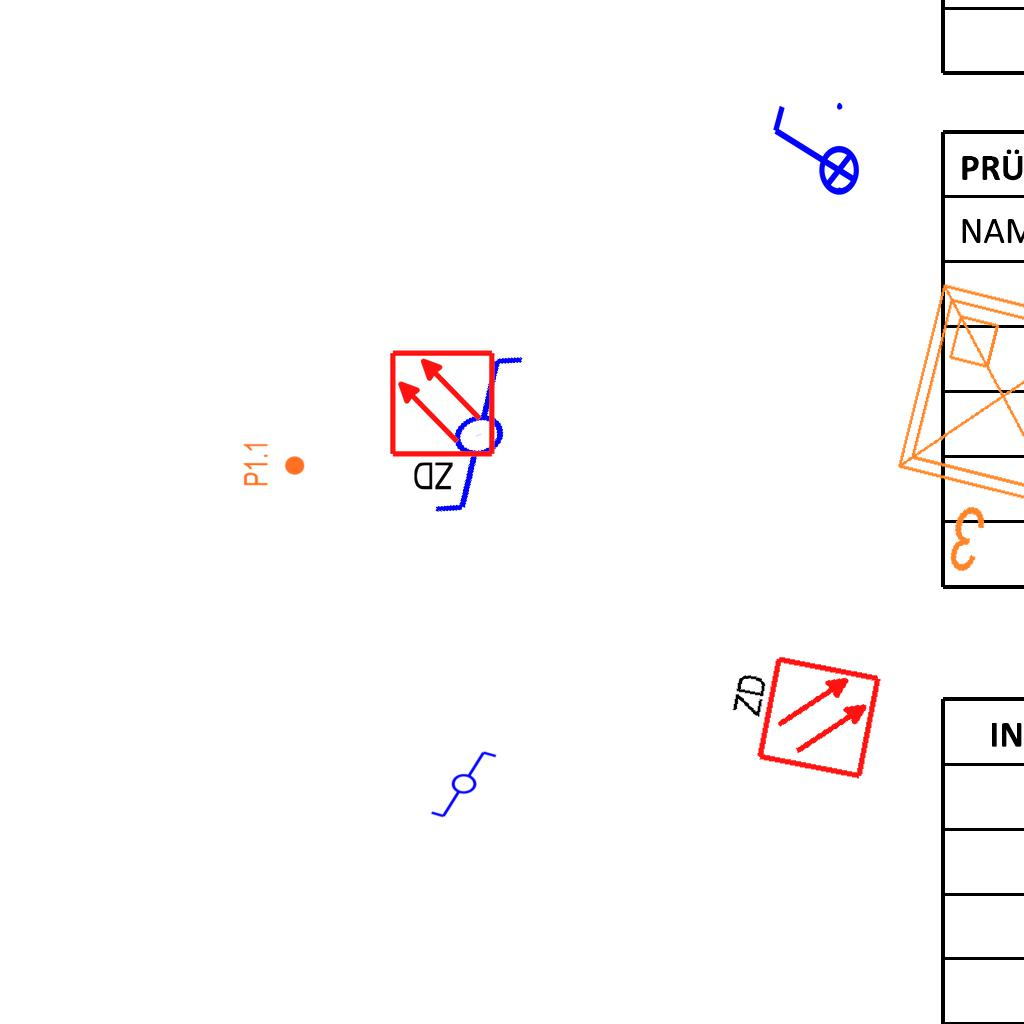Ausschalter_beleuchtet: (765, 97, 861, 209)
Downlight_LED_Einbauleuchten_Flur: (242, 441, 306, 487)
Einbaudownlights_LED_Konferenzraeume: (859, 266, 1024, 608)
Wechselschalter: (372, 342, 569, 530), (429, 749, 507, 821)
ZD_Melder_in_Zwischendecke_mit_Revisionsoeffnung_mind_40_x_40_cm: (715, 645, 885, 786), (387, 348, 501, 497)
